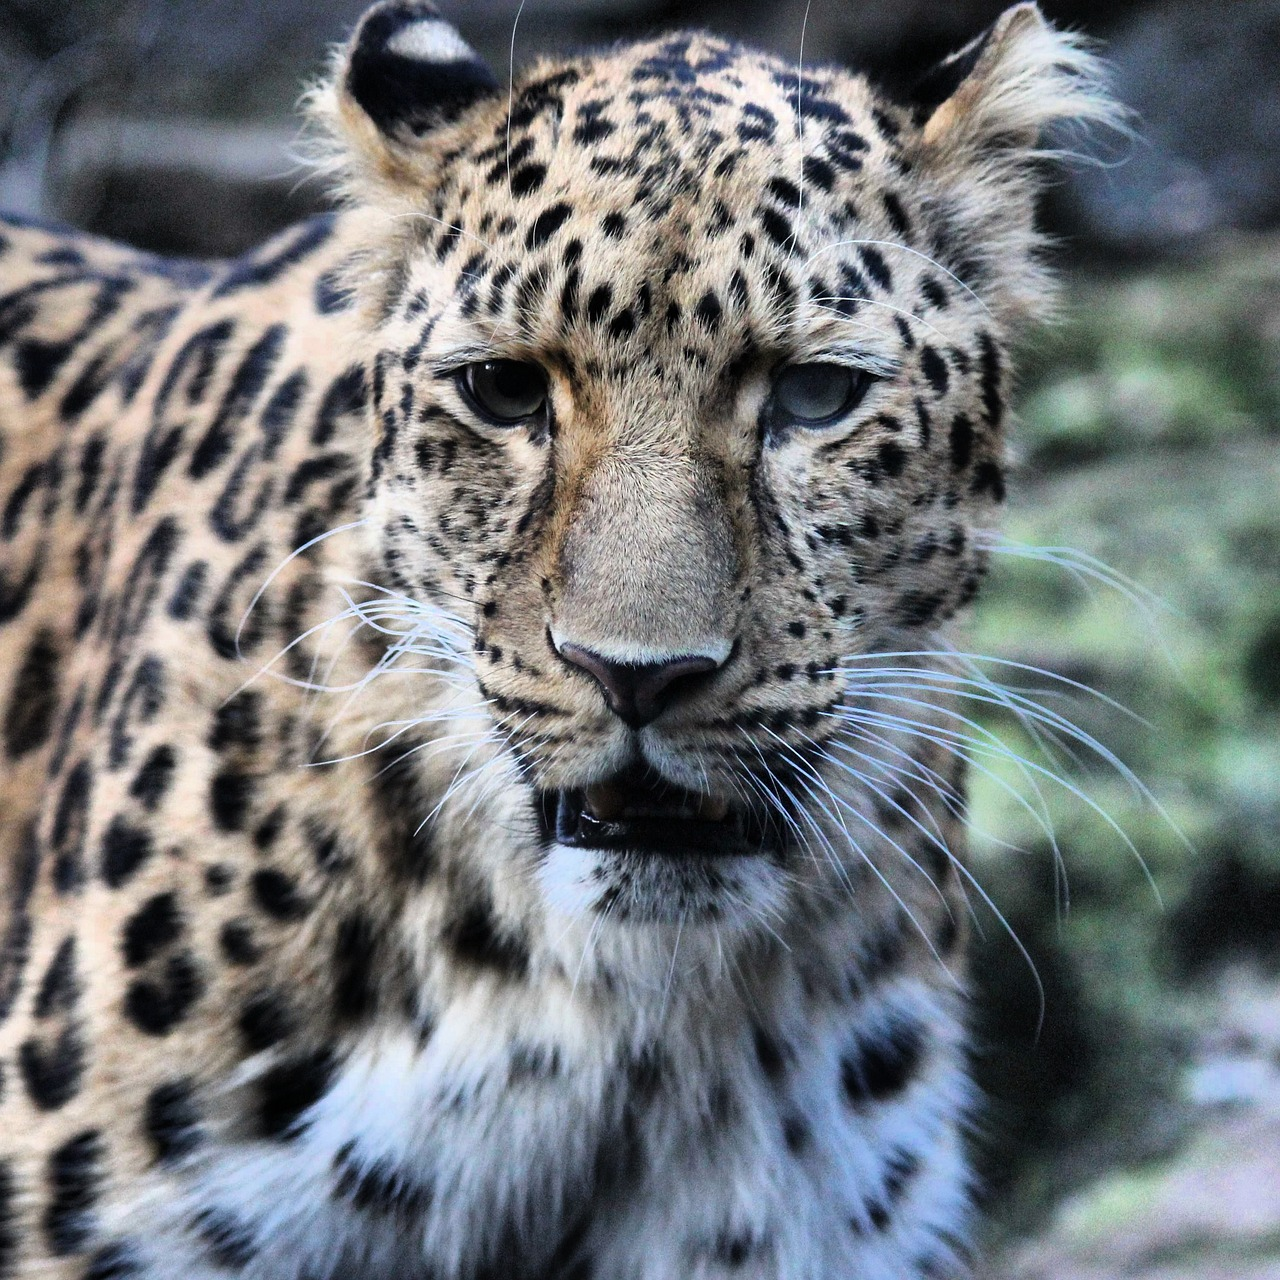tiger: (476, 533, 799, 729)
